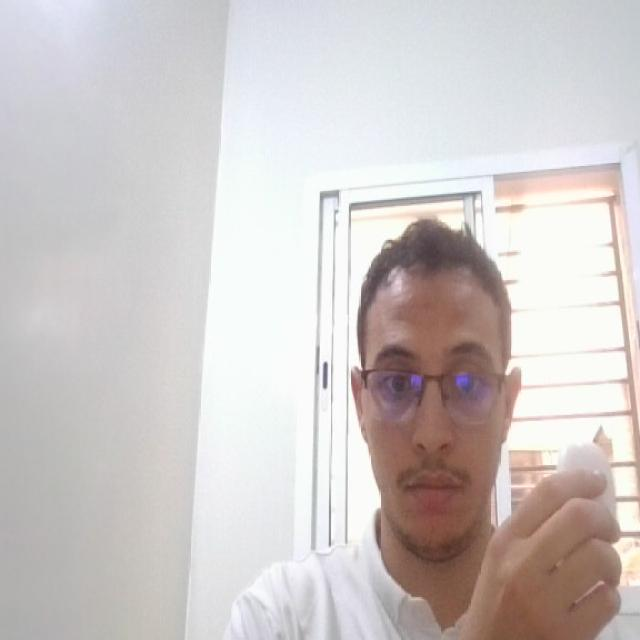airpods: (555, 434, 623, 537)
